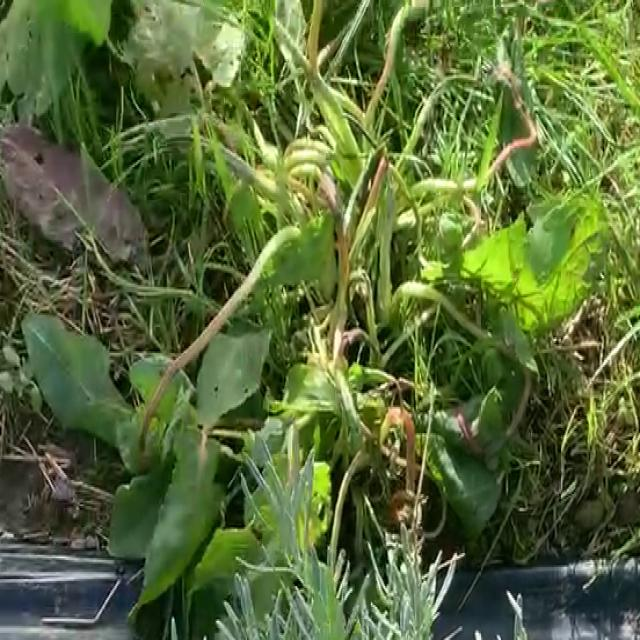organic waste: (5, 0, 597, 640)
